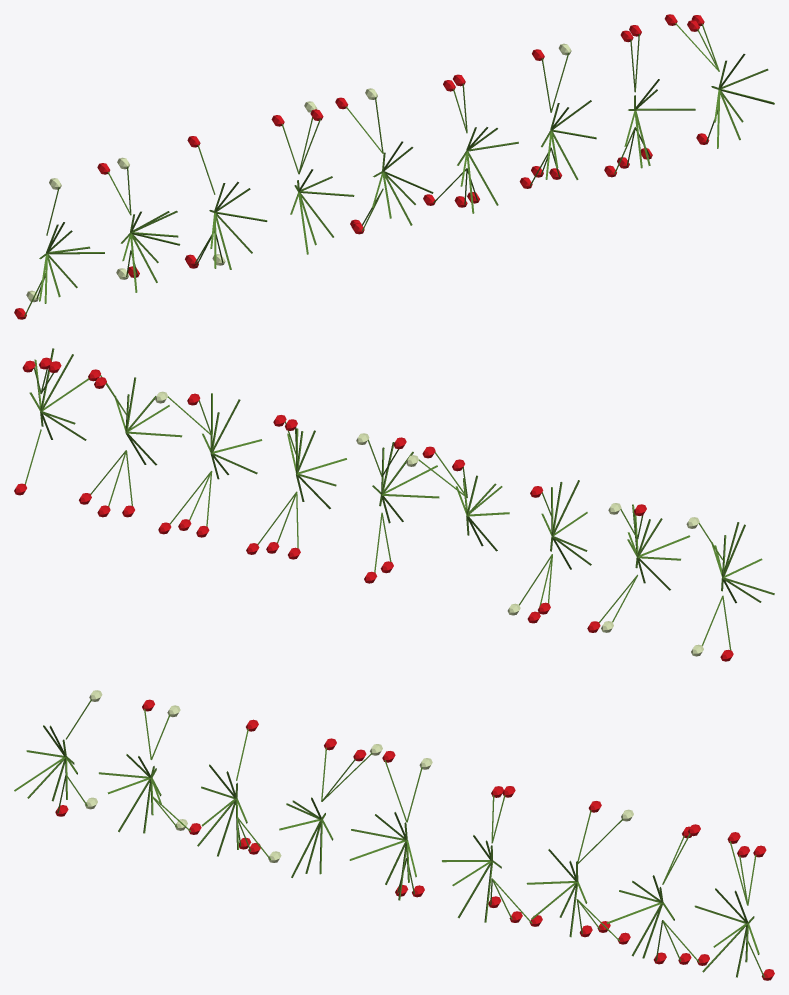
The model's file is r3c1_rest.obj.
3 views of the same model, one above another, from view 1: azimuth 30°, elevation 25°; view 2: azimuth 150°, elevation 25°; view 3: azimuth 330°, elevation 25° (orthographic).
Parts seen in each view (by area): view 1: r3c1_rest; view 2: r3c1_rest; view 3: r3c1_rest.
Boxes of the visible parts, x1,y1,x2,y2 form: r3c1_rest: [14, 14, 774, 319]; r3c1_rest: [14, 348, 774, 661]; r3c1_rest: [14, 690, 774, 980].
Size of the model in its own units: 2.19 by 0.4047 by 0.2578.
